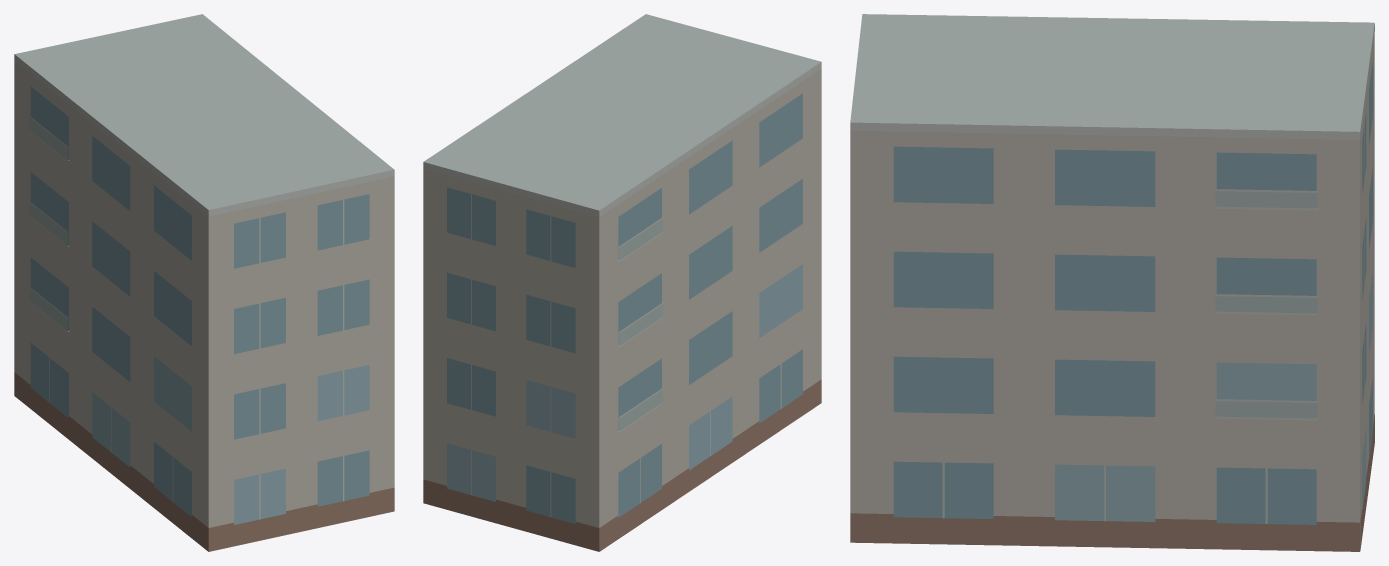
The model's file is survey-upis-32973813.glb.
3 views of the same model, side by side, from view 1: azimuth 30°, elevation 25°; view 2: azimuth 150°, elevation 25°; view 3: azimuth 270°, elevation 25° (orthographic). The views are drawn at different scales.
Parts seen in each view (by area): view 1: survey-upis-32973813.tmp; view 2: survey-upis-32973813.tmp; view 3: survey-upis-32973813.tmp.
Boxes of the visible parts, x1,y1,x2,y2 form: survey-upis-32973813.tmp: (14, 14, 394, 551); survey-upis-32973813.tmp: (423, 14, 821, 551); survey-upis-32973813.tmp: (850, 14, 1374, 551).
Bounding box in the file's own units: 7.71 × 12.8 × 14.5.
